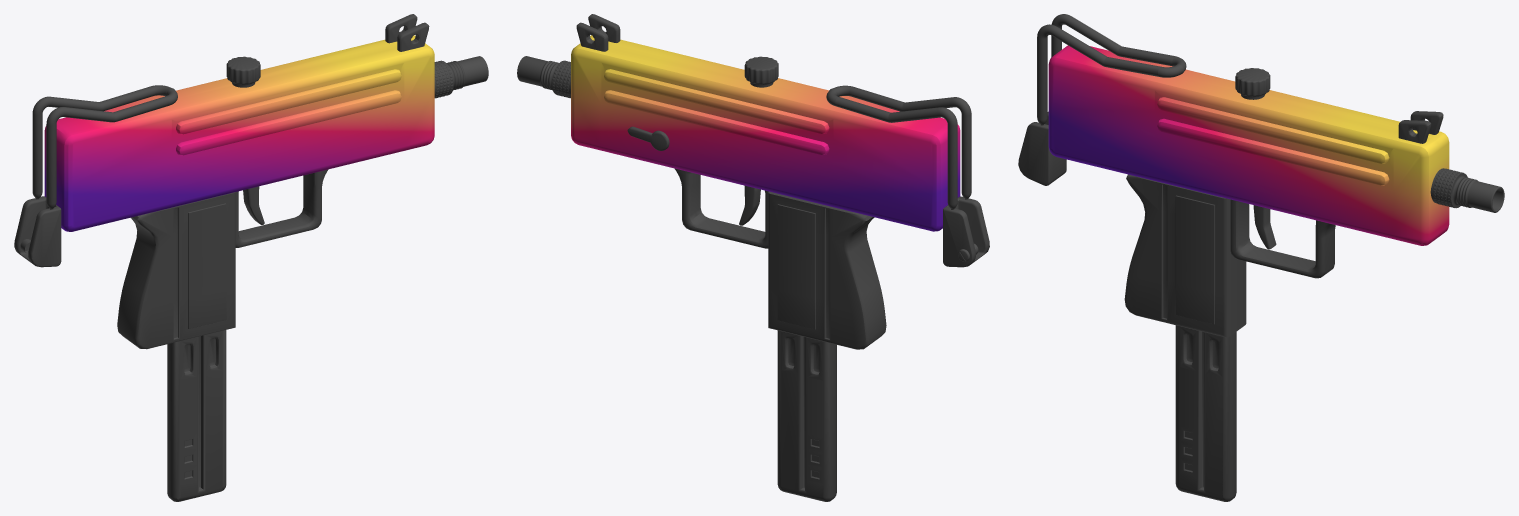
Rendered from mac10noicecolors_.fbx.
3 renders of one model, left to right at view 1: azimuth 30°, elevation 25°; view 2: azimuth 150°, elevation 25°; view 3: azimuth 330°, elevation 25°, orthographic. The views are drawn at different scales.
Parts seen in each view (by area): view 1: Cube.025, Cube.038, Cube.036, Cylinder.006; view 2: Cube.025, Cube.038, Cube.036, Cylinder.006, Cylinder.024, Cube.026; view 3: Cube.025, Cube.038, Cube.036, Cylinder.006, Cube.026.
Part boxes in pixels (x1,y1,x2,y2): Cube.025: (44, 14, 488, 349); Cube.038: (167, 330, 226, 501); Cube.036: (14, 85, 177, 267); Cylinder.006: (226, 56, 260, 87); Cube.025: (517, 14, 960, 349); Cube.038: (777, 330, 836, 501); Cube.036: (826, 85, 989, 267); Cylinder.006: (744, 56, 778, 87); Cylinder.024: (627, 126, 669, 150); Cube.026: (739, 185, 760, 225); Cube.025: (1048, 45, 1504, 337); Cube.038: (1175, 325, 1236, 501); Cube.036: (1018, 14, 1186, 185); Cylinder.006: (1235, 68, 1270, 99); Cube.026: (1253, 205, 1276, 249).
Size of the model in its own units: 117 by 105 by 13.42.
Materials: 2 (2 with a texture image).
